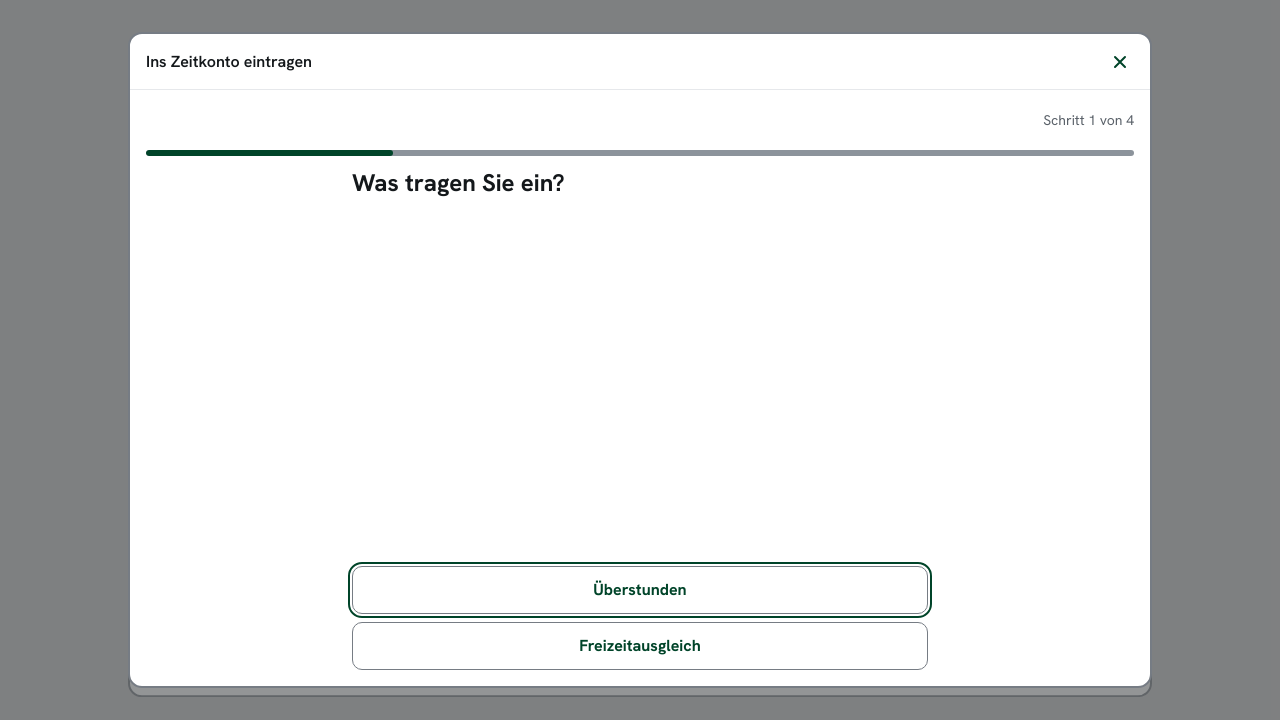
Test case: RecordTimeAccountPage › lädt den Tag nach einem Funkloch mit „Erneut versuchen“ (Regel 8, Design-Review Überholung 9)
The width and height of the screenshot is (1280, 720).
Click the button "Überstunden": (640, 590) [352,566,928,614]
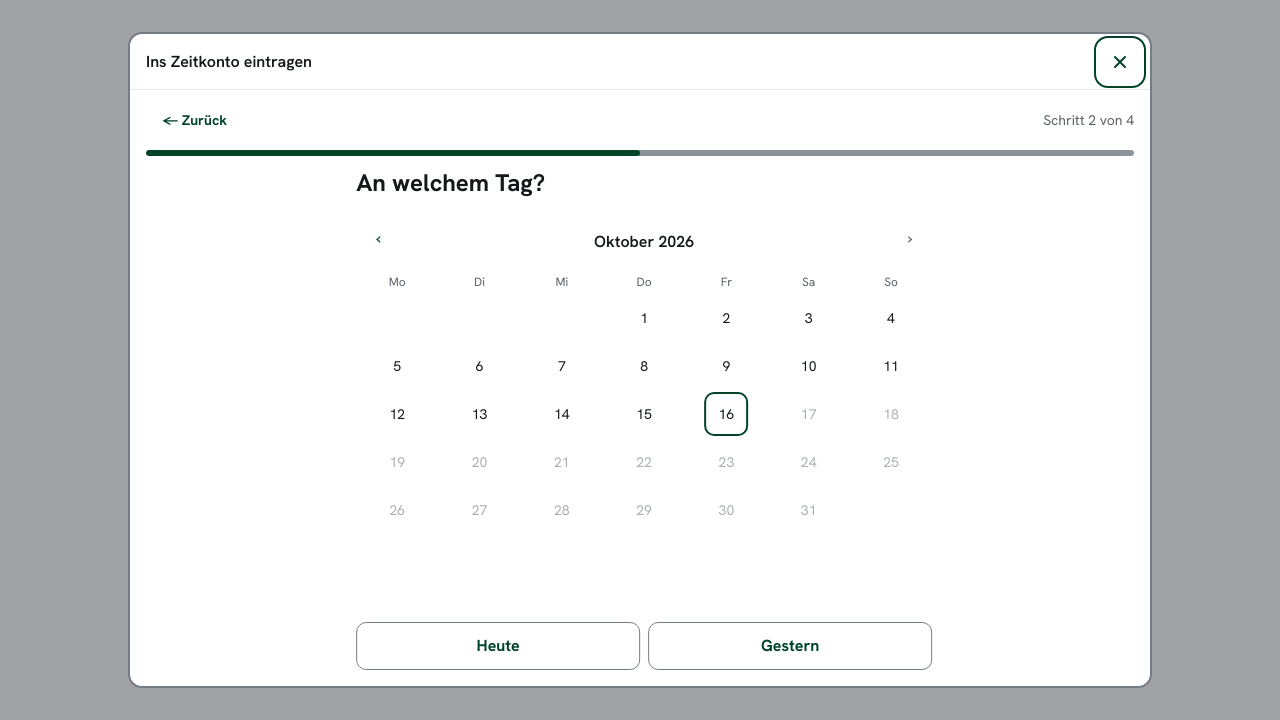
Click the button "Heute": (495, 646) [353,622,637,670]
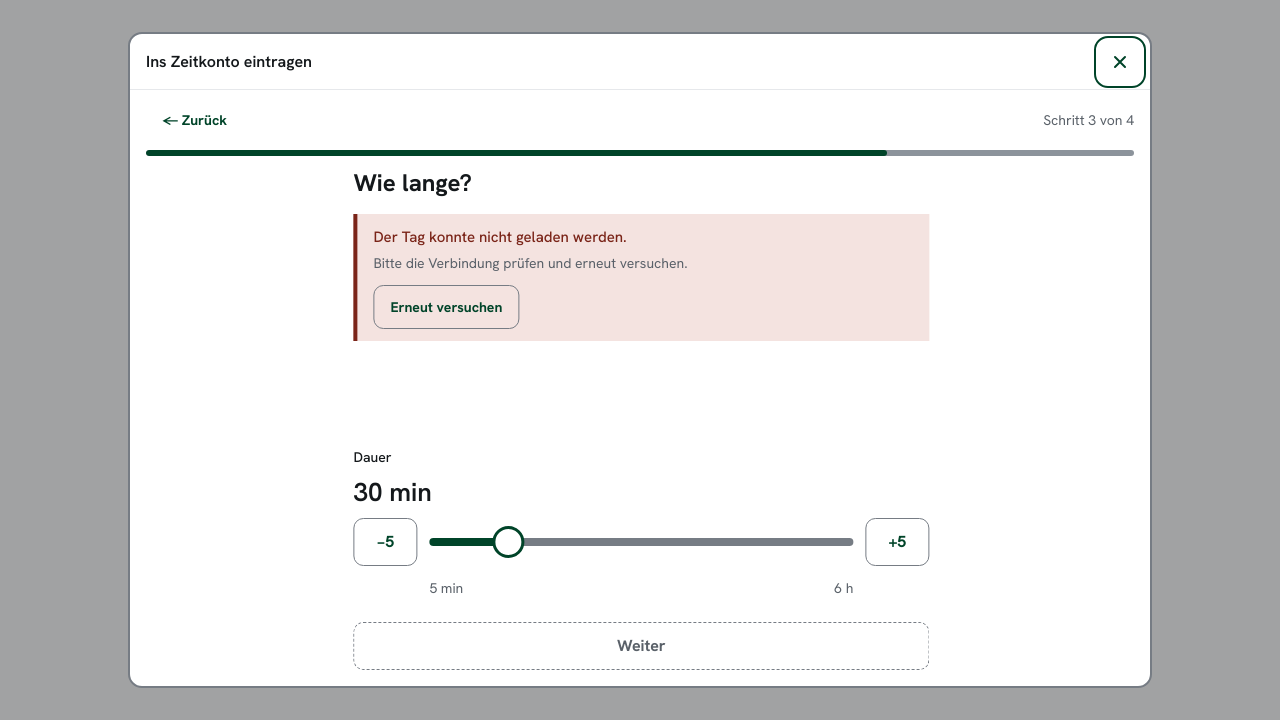
Check: the text "Der Tag konnte nicht geladen werden." is shown, box [372,227,625,247]
Check: the button "Weiter" is disabled, box [352,622,928,670]
Click the button "Erneut versuchen": (445, 306) [372,284,518,328]
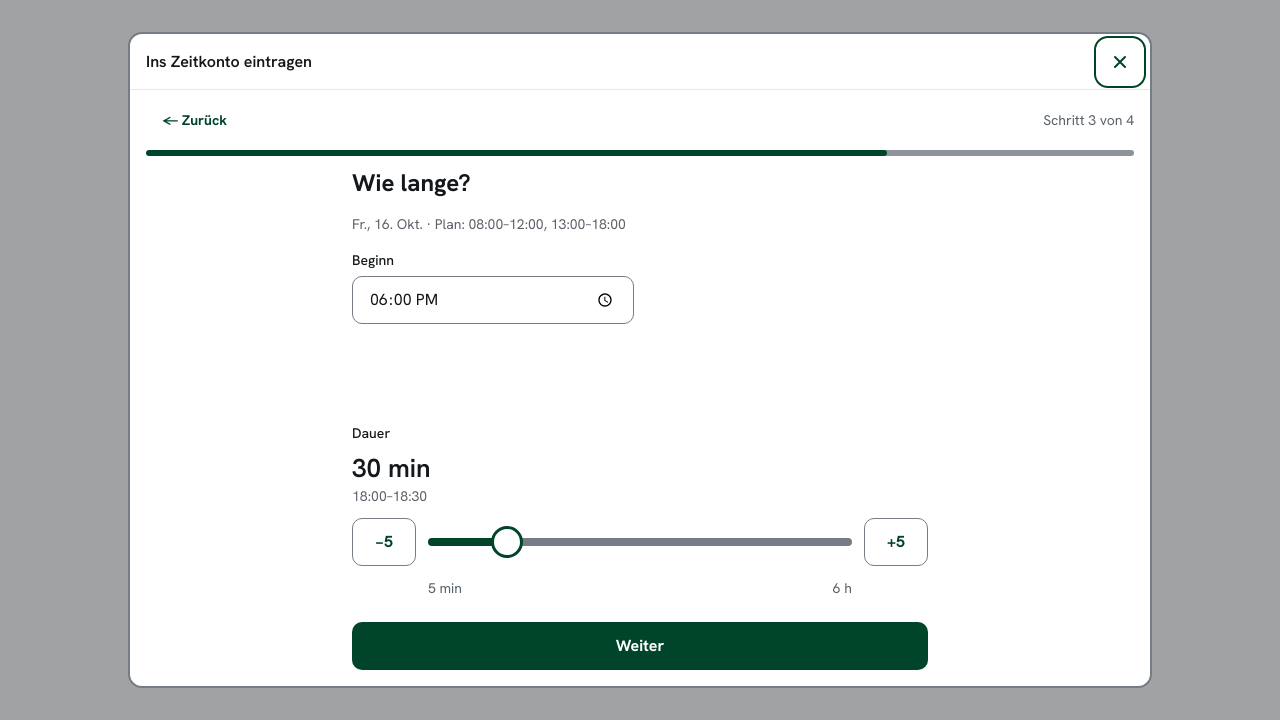
Check: the time field labelled "Beginn" holds "18:00", box [352,276,634,324]
Check: the button "Weiter" is enabled, box [352,622,928,670]
